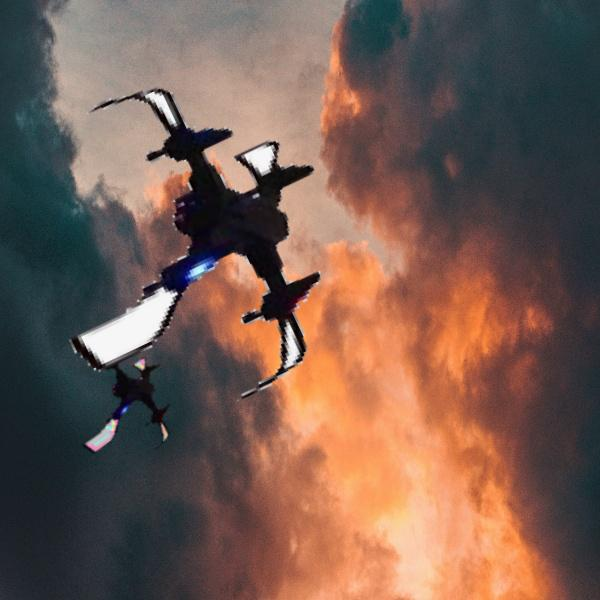drone: (10, 72, 351, 413), (52, 337, 182, 467)
